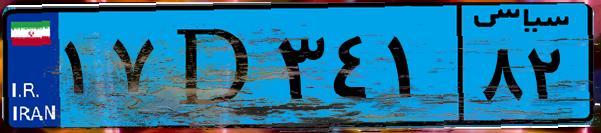1: (385, 28, 445, 110), (57, 26, 110, 100)
2: (525, 38, 570, 115)
3: (270, 28, 330, 110)
4: (330, 28, 385, 110)
7: (110, 28, 158, 98)
8: (475, 38, 525, 113)
D: (158, 12, 270, 120)
